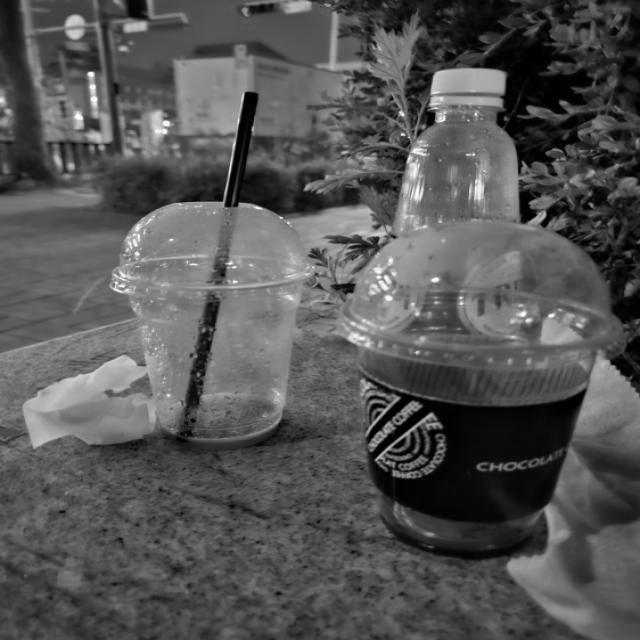bottle: (359, 349, 596, 554), (130, 282, 300, 449)
